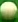white: (0, 0, 18, 22)
